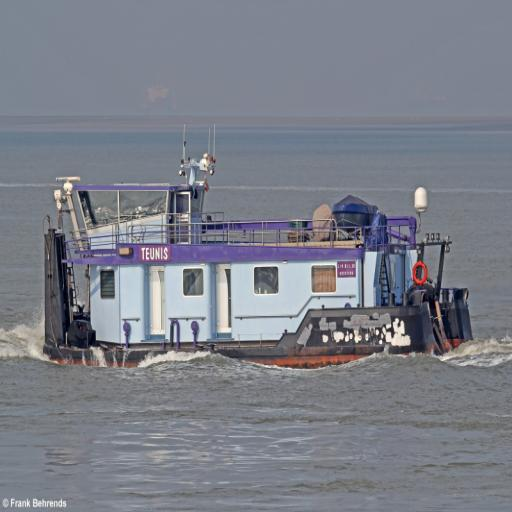tugboat: (39, 149, 478, 381)
